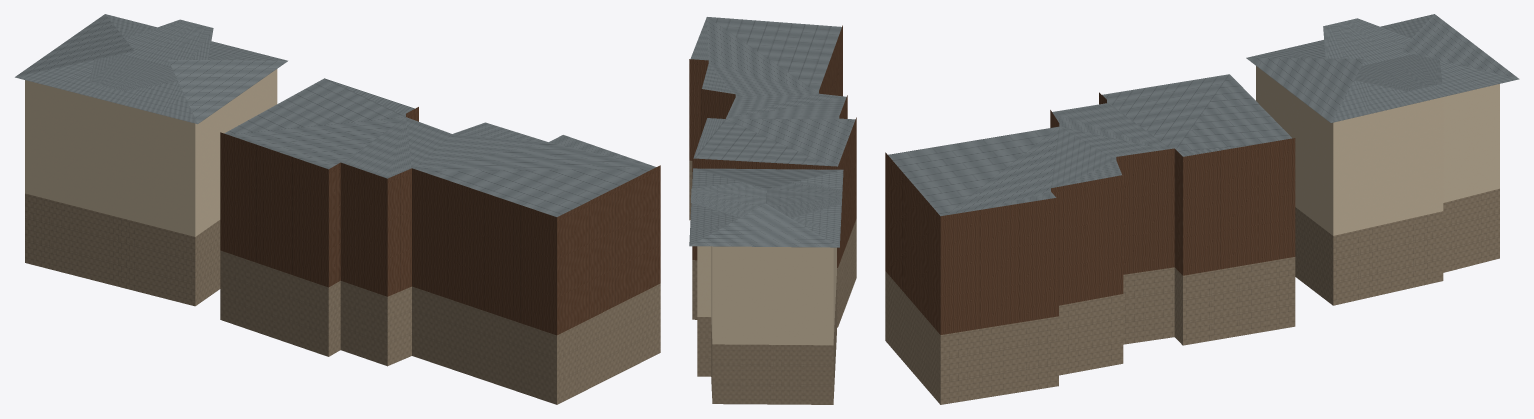
File: bld_c42_34_265.gltf
3 renders of one model, left to right at view 1: azimuth 30°, elevation 25°; view 2: azimuth 150°, elevation 25°; view 3: azimuth 270°, elevation 25°, orthographic. The views are drawn at different scales.
Visible parts, largest first — view 1: bld_c42_34_265; view 2: bld_c42_34_265; view 3: bld_c42_34_265.
Boxes of the visible parts, x1,y1,x2,y2 form: bld_c42_34_265: (15,14,660,404); bld_c42_34_265: (689,17,856,404); bld_c42_34_265: (885,14,1519,404).
Bounding box in the file's own units: 30.77 × 15.2 × 41.99.
5 materials, 5 textured.
